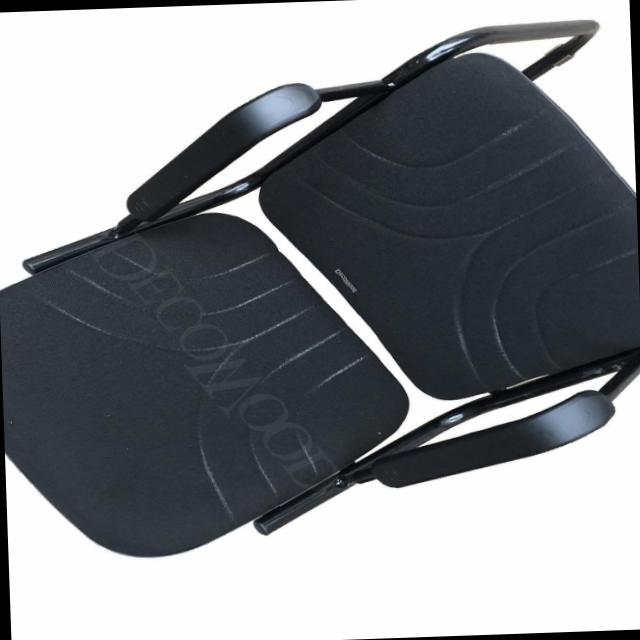Chair: (0, 9, 640, 573)
